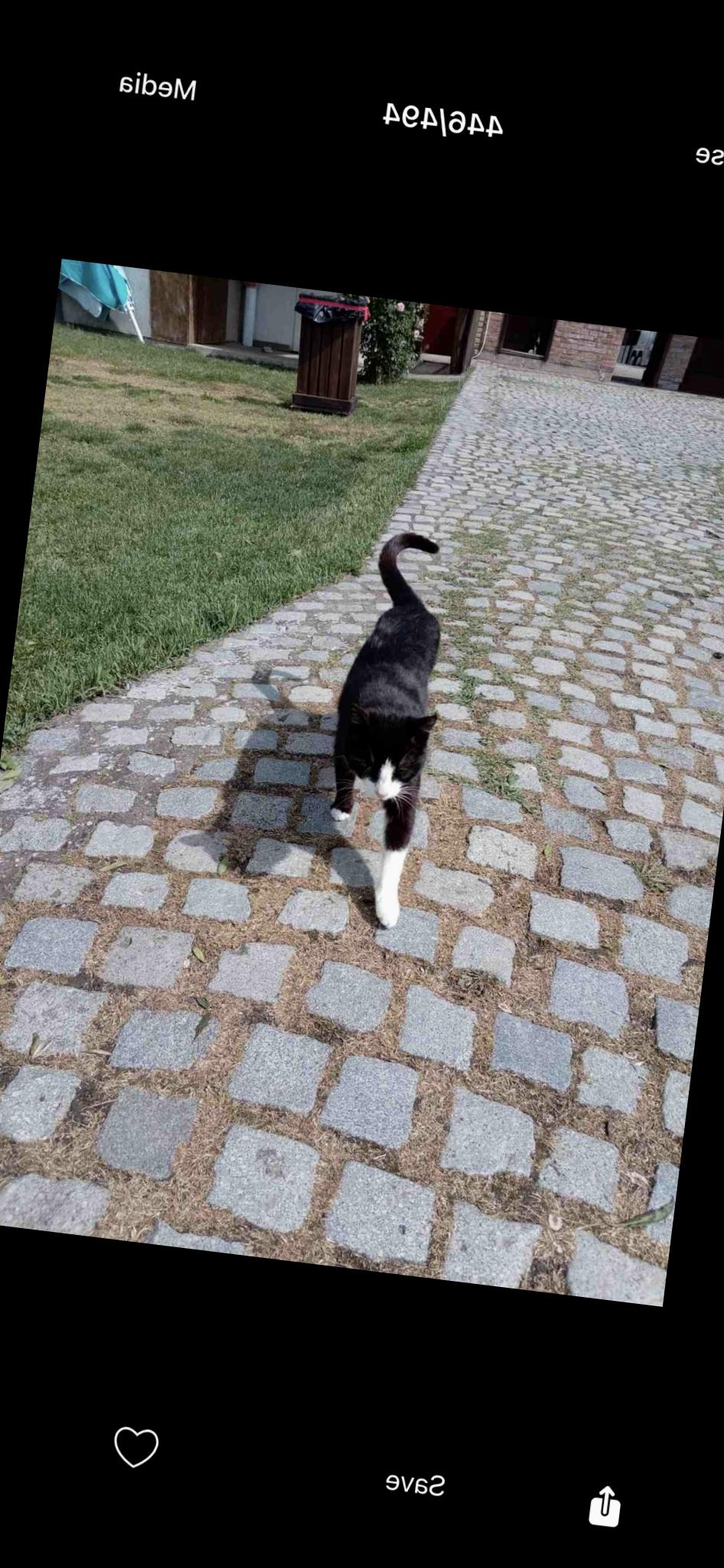macka: (311, 527, 463, 929)
